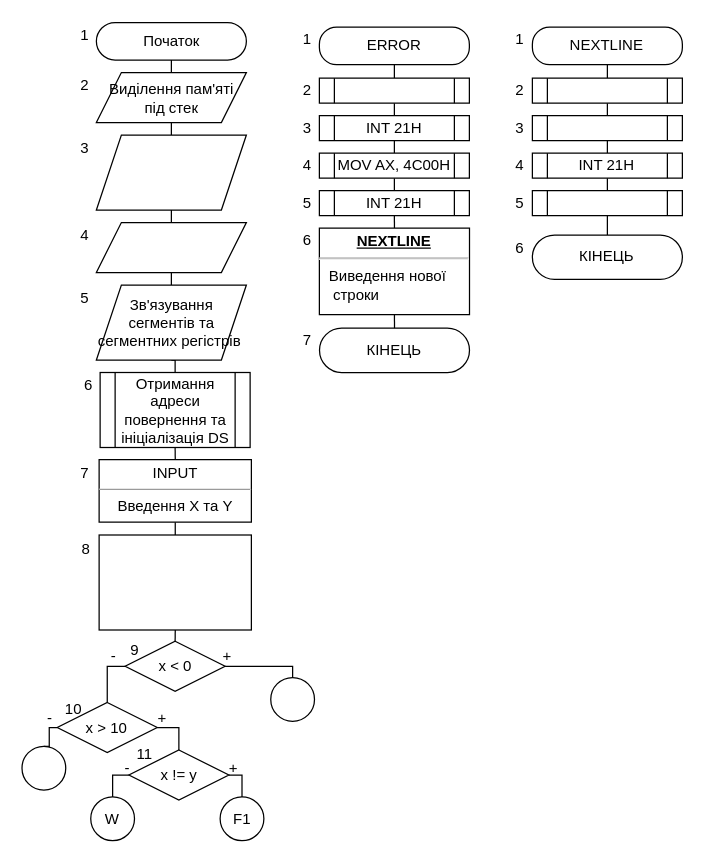
Some shapes in this 705 by 863 pixel diagram are drawn without their labels. The shapes that lost their labels are listed below. From the top down, each one's centre as x and y in pixels, then its label:
point 393,90: MOV AH, 9
point 606,90: MOV AH, 2
point 606,127: MOV DL, 10
point 170,172: Ініціалізація повідомлень, змінних, буферів
point 606,202: RET
point 170,246: Опис сегменту коду
point 174,582: CHECKNUMS Перевірка на коректне введення X та Y
point 292,698: F2
point 43,767: F3
